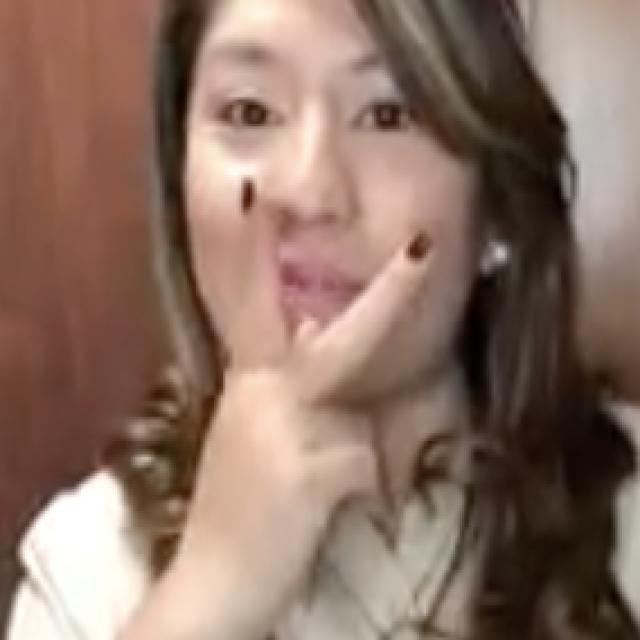PAPA: (188, 174, 438, 618)
